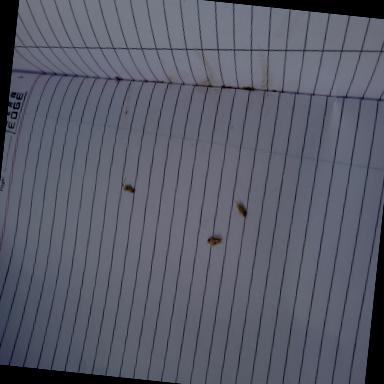pbw: (233, 200, 248, 219), (206, 236, 222, 248), (122, 184, 135, 194)
